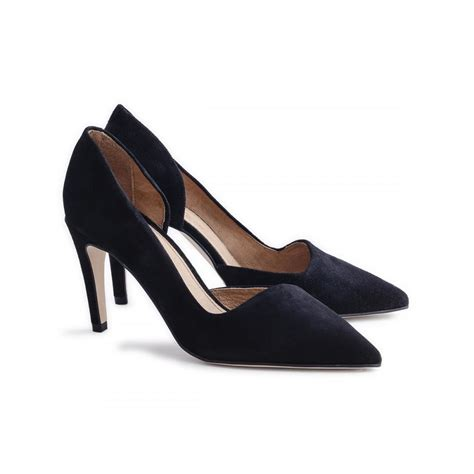gamuza: (63, 103, 409, 371)
